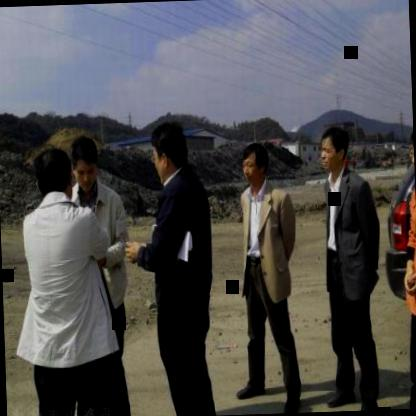head: (30, 140, 76, 209), (148, 117, 192, 183), (69, 130, 104, 194), (316, 120, 354, 178), (238, 142, 270, 192), (408, 124, 416, 190)
